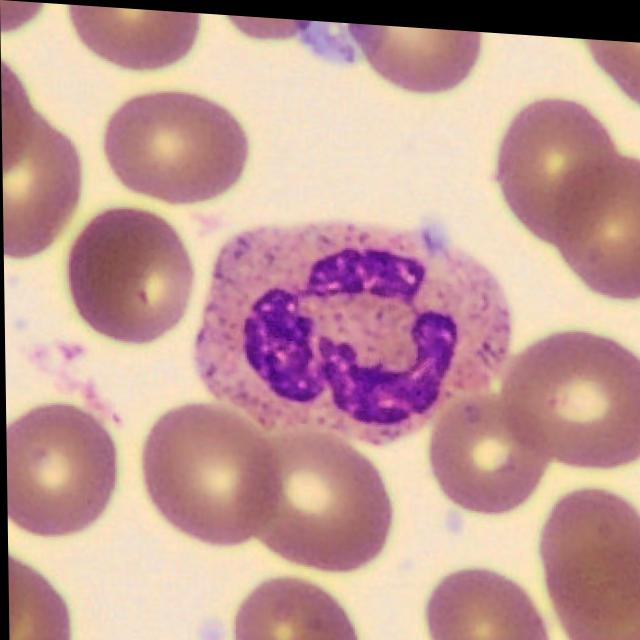Neutrofilo segmentado: (192, 212, 513, 440)
